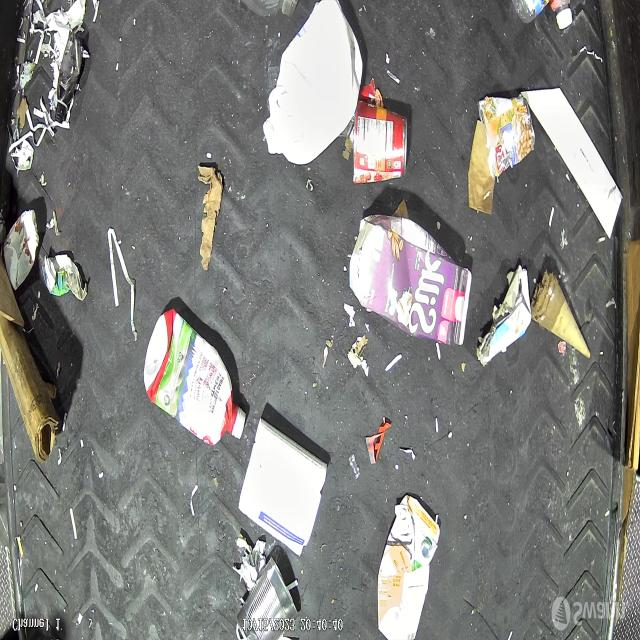can: (236, 556, 299, 640), (352, 100, 409, 186), (478, 96, 536, 179), (3, 208, 40, 290)
milk_jug: (262, 0, 364, 166)
non_white_jug: (350, 211, 472, 346), (144, 308, 246, 446), (378, 492, 440, 640)
